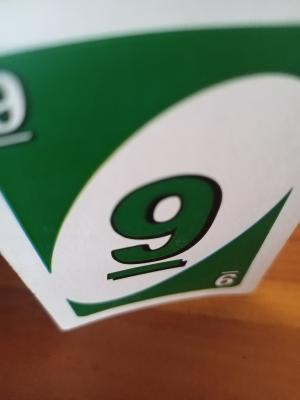green: (11, 44, 264, 286)
